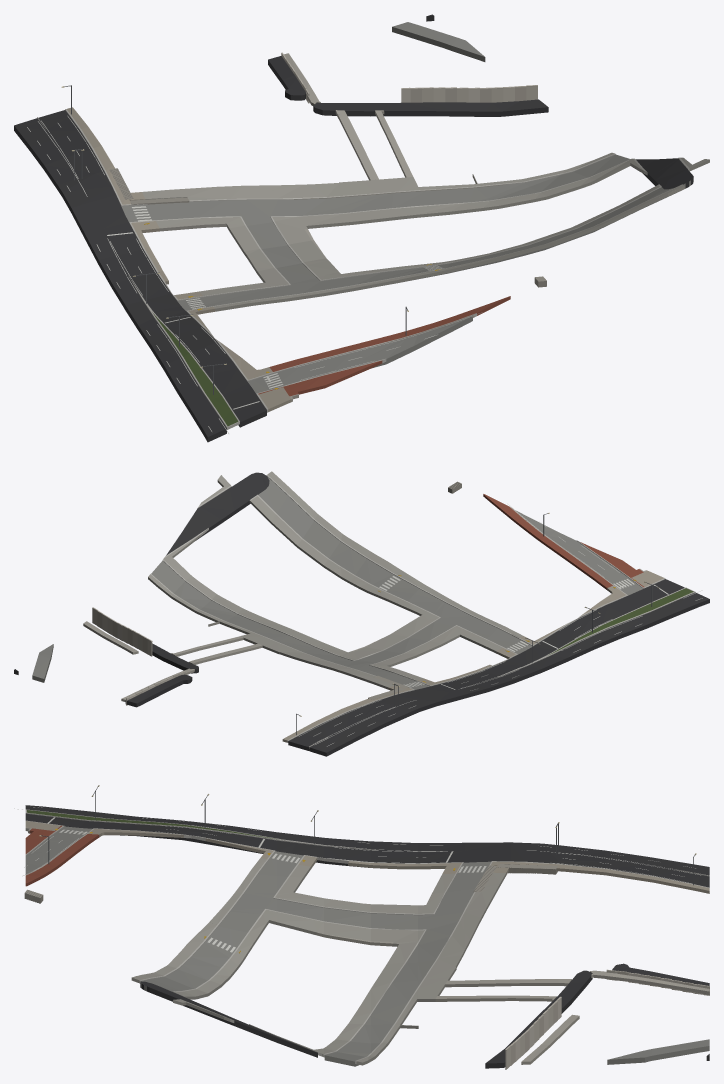
3 renders of one model, top to bottom at view 1: azimuth 30°, elevation 25°; view 2: azimuth 150°, elevation 25°; view 3: azimuth 270°, elevation 25°, orthographic. The views are drawn at different scales.
Size of the model in its own units: 138 by 20.58 by 148.
